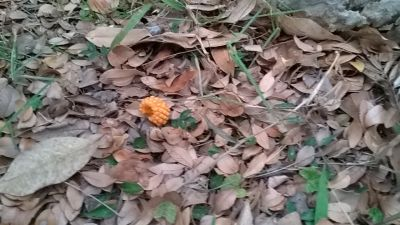eggs: (139, 96, 170, 126)
